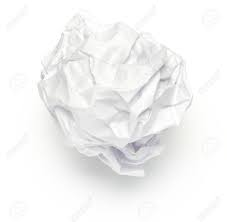crumpled paper: (35, 9, 200, 182)
